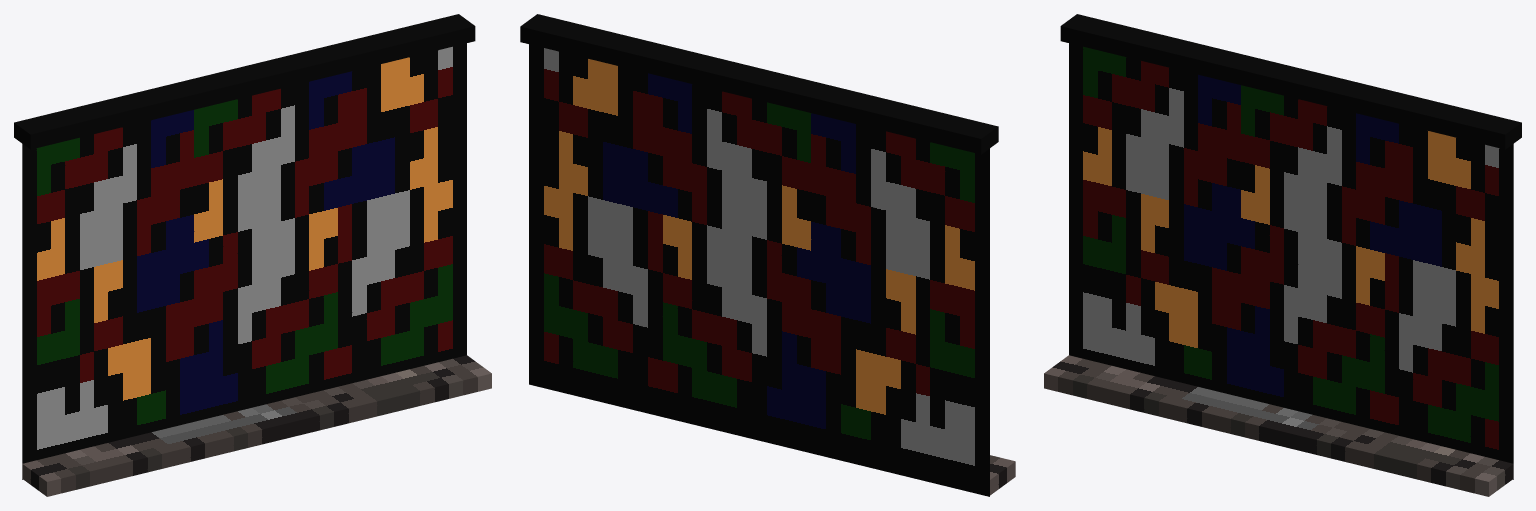
Rendered from window_438x05.obj.
The picture shows the model from 3 angles, left to right: view 1: azimuth 30°, elevation 25°; view 2: azimuth 150°, elevation 25°; view 3: azimuth 330°, elevation 25°; orthographic projection. The views are drawn at different scales.
Visible parts, largest first — view 1: Plane.004; view 2: Plane.004; view 3: Plane.004.
Boxes of the visible parts, <box> form: Plane.004: <box>14,14,491,496</box>; Plane.004: <box>520,14,1015,496</box>; Plane.004: <box>1044,14,1521,496</box>.
Bounding box in the file's own units: 3.88 × 2.92 × 0.5.
